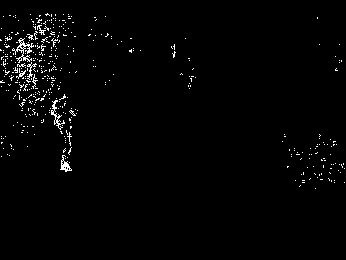person: (51, 93, 78, 172)
